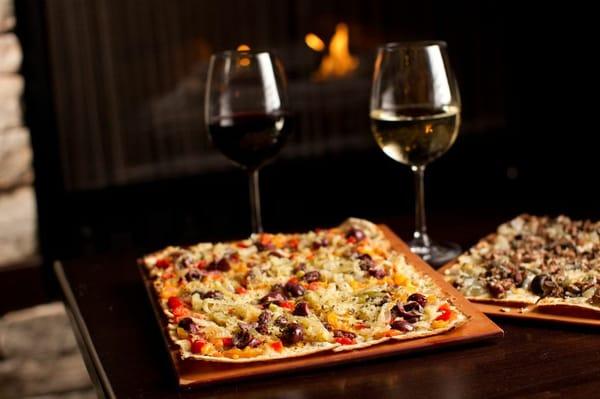curry: (34, 210, 598, 394)
sandwich: (138, 218, 471, 363), (369, 41, 463, 267), (204, 49, 296, 241), (440, 212, 600, 310)
